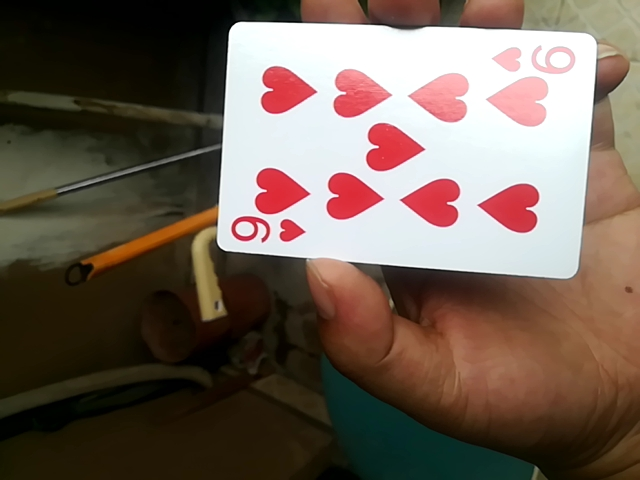hx 9: (210, 19, 605, 283)
